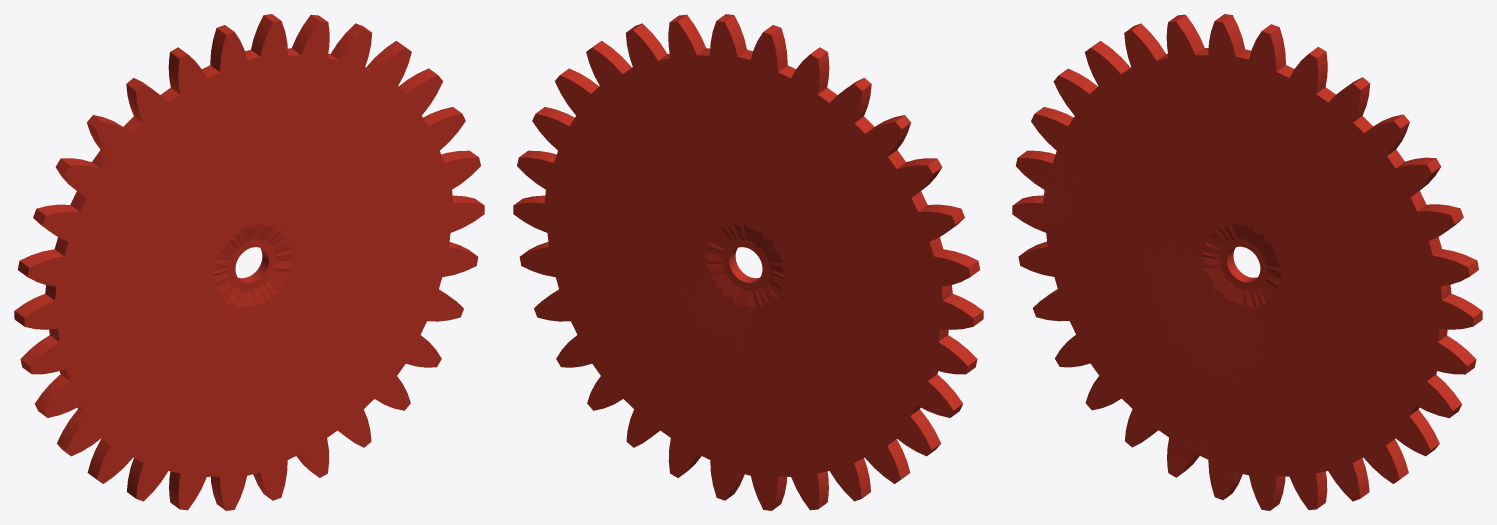
Rendered from gear.obj.
The picture shows the model from 3 angles, left to right: view 1: azimuth 30°, elevation 25°; view 2: azimuth 150°, elevation 25°; view 3: azimuth 330°, elevation 25°; orthographic projection.
Bounding box in the file's own units: 0.2072 × 0.2059 × 0.00787.
